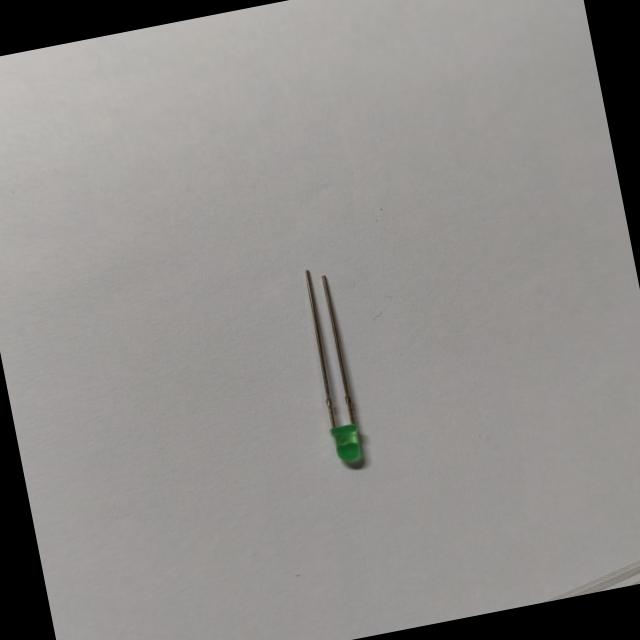led: (280, 260, 384, 484)
